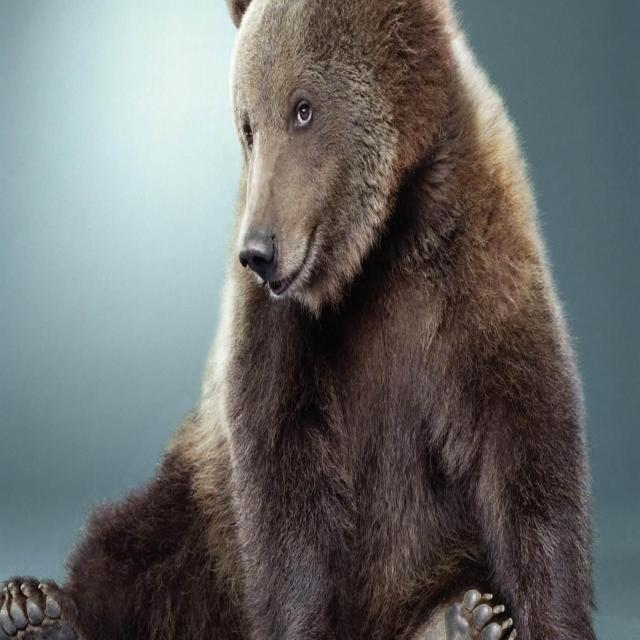Bear: (0, 0, 600, 640)
